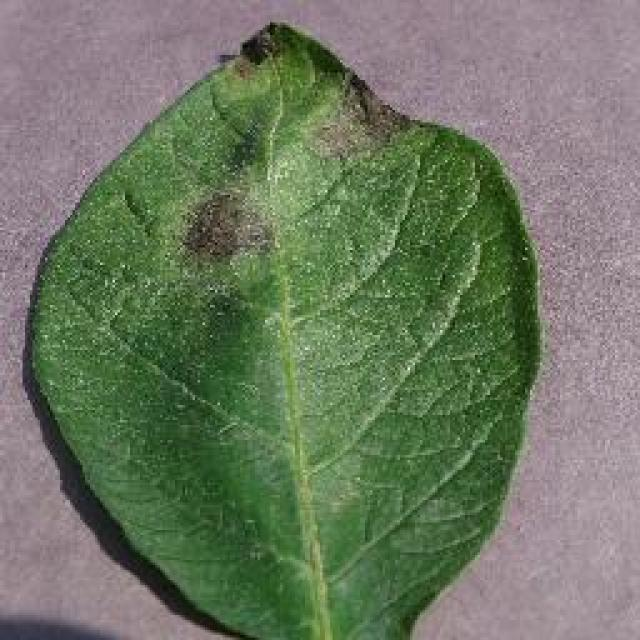late_blight: (20, 18, 548, 638)
